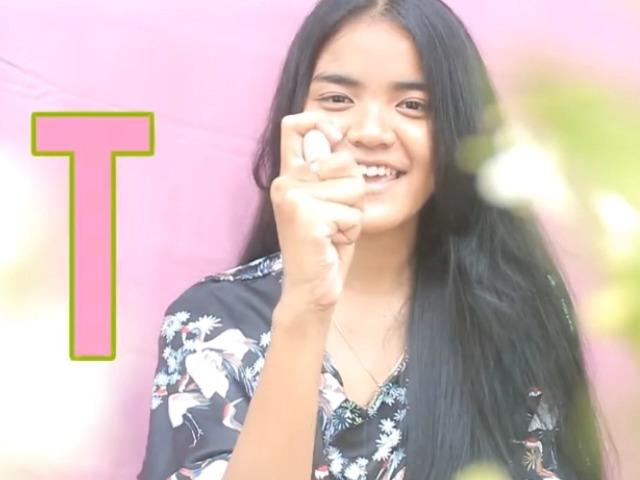T: (271, 110, 369, 314)
